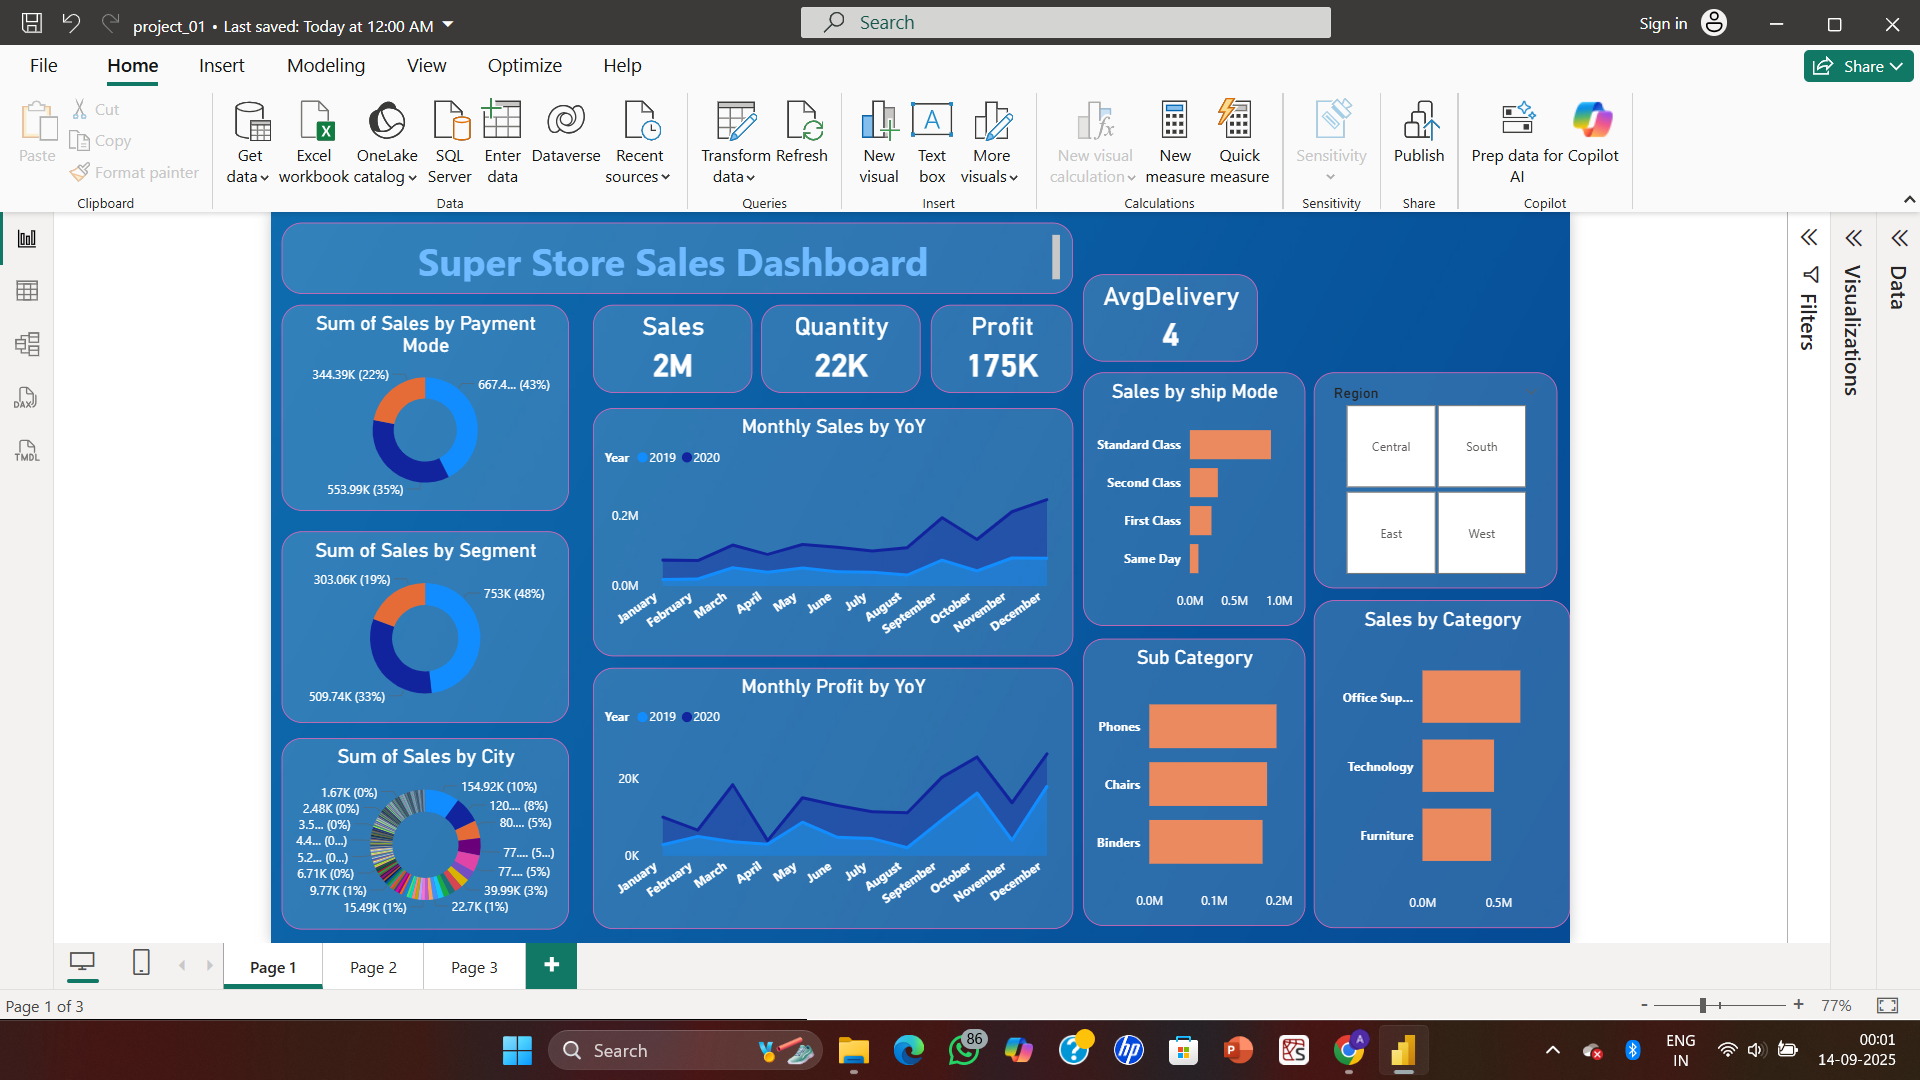

This screenshot's page, from the dashboard's own definition file:
{"tool":"powerbi","page":{"name":"Page 1","canvas":[1280,720],"ordinal":0},"visuals":[{"type":"clusteredBarChart","title":"Sales by Category","fields":{"Category":["SuperStore_Sales_Dataset.Category"],"Y":["Sum(SuperStore_Sales_Dataset.Sales)"]},"box":[1027.1,382.9,252.9,322.9],"z":0},{"type":"clusteredBarChart","title":"Sub Category","fields":{"Category":["SuperStore_Sales_Dataset.Sub-Category"],"Y":["Sum(SuperStore_Sales_Dataset.Sales)"]},"box":[800,420,218.6,282.9],"z":1000},{"type":"clusteredBarChart","title":"Sales by ship Mode","fields":{"Category":["SuperStore_Sales_Dataset.Ship Mode"],"Y":["Sum(SuperStore_Sales_Dataset.Sales)"]},"box":[800,158.6,218.6,250],"z":2000},{"type":"stackedAreaChart","title":"Monthly Sales by YoY","fields":{"Y":["Sum(SuperStore_Sales_Dataset.Sales)"],"Category":["SuperStore_Sales_Dataset.Order Date.Variation.Date Hierarchy.Month","SuperStore_Sales_Dataset.Order Date.Variation.Date Hierarchy.Day"],"Series":["SuperStore_Sales_Dataset.Order Date.Variation.Date Hierarchy.Year"]},"box":[317.1,192.9,472.9,244.3],"z":3000},{"type":"stackedAreaChart","title":"Monthly Profit by YoY","fields":{"Category":["SuperStore_Sales_Dataset.Order Date.Variation.Date Hierarchy.Month","SuperStore_Sales_Dataset.Order Date.Variation.Date Hierarchy.Day"],"Series":["SuperStore_Sales_Dataset.Order Date.Variation.Date Hierarchy.Year"],"Y":["Sum(SuperStore_Sales_Dataset.Profit)"]},"box":[317.1,448.6,472.9,257.1],"z":4000},{"type":"donutChart","fields":{"Category":["SuperStore_Sales_Dataset.Segment"],"Y":["Sum(SuperStore_Sales_Dataset.Sales)"]},"box":[10,314.3,282.9,188.6],"z":5000},{"type":"donutChart","fields":{"Category":["SuperStore_Sales_Dataset.Payment Mode"],"Y":["Sum(SuperStore_Sales_Dataset.Sales)"]},"box":[10,91.4,282.9,202.9],"z":6000},{"type":"slicer","fields":{"Values":["SuperStore_Sales_Dataset.Region"]},"box":[1027.1,158.6,240,212.9],"z":7000},{"type":"textbox","box":[10,0,592.9,81.4],"z":8000},{"type":"card","title":"Sales","fields":{"Values":["Sum(SuperStore_Sales_Dataset.Sales)"]},"box":[317.1,91.4,157.1,87.1],"z":9000},{"type":"card","title":"Quantity","fields":{"Values":["Sum(SuperStore_Sales_Dataset.Quantity)"]},"box":[482.9,91.4,157.1,87.1],"z":10000},{"type":"card","title":"Profit","fields":{"Values":["Sum(SuperStore_Sales_Dataset.Profit)"]},"box":[650,91.4,140,87.1],"z":11000},{"type":"card","title":"AvgDelivery","fields":{"Values":["Avg(SuperStore_Sales_Dataset.AvgDelivery)"]},"box":[800.2,61.3,172.3,86.2],"z":12000},{"type":"donutChart","fields":{"Y":["Sum(SuperStore_Sales_Dataset.Sales)"],"Category":["SuperStore_Sales_Dataset.City"]},"box":[10,518.3,283.3,188.3],"z":13000}]}

Visuals, with their boxes on the page's 1280x720 design canvas (x1, y1, x2, y2). These are canvas units, not pixel positions in the 1920x1080 screenshot, which may show the page scaled, cropped or inside an application window:
"Sales by Category" clusteredBarChart: box=[1027, 383, 1280, 706]
"Sub Category" clusteredBarChart: box=[800, 420, 1019, 703]
"Sales by ship Mode" clusteredBarChart: box=[800, 159, 1019, 409]
"Monthly Sales by YoY" stackedAreaChart: box=[317, 193, 790, 437]
"Monthly Profit by YoY" stackedAreaChart: box=[317, 449, 790, 706]
donutChart - SuperStore_Sales_Dataset.Segment x Sum(SuperStore_Sales_Dataset.Sales): box=[10, 314, 293, 503]
donutChart - SuperStore_Sales_Dataset.Payment Mode x Sum(SuperStore_Sales_Dataset.Sales): box=[10, 91, 293, 294]
slicer - SuperStore_Sales_Dataset.Region: box=[1027, 159, 1267, 372]
textbox: box=[10, 0, 603, 81]
"Sales" card: box=[317, 91, 474, 178]
"Quantity" card: box=[483, 91, 640, 178]
"Profit" card: box=[650, 91, 790, 178]
"AvgDelivery" card: box=[800, 61, 972, 148]
donutChart - Sum(SuperStore_Sales_Dataset.Sales) x SuperStore_Sales_Dataset.City: box=[10, 518, 293, 707]
